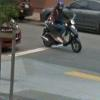Motorcycle: (34, 12, 89, 56)
